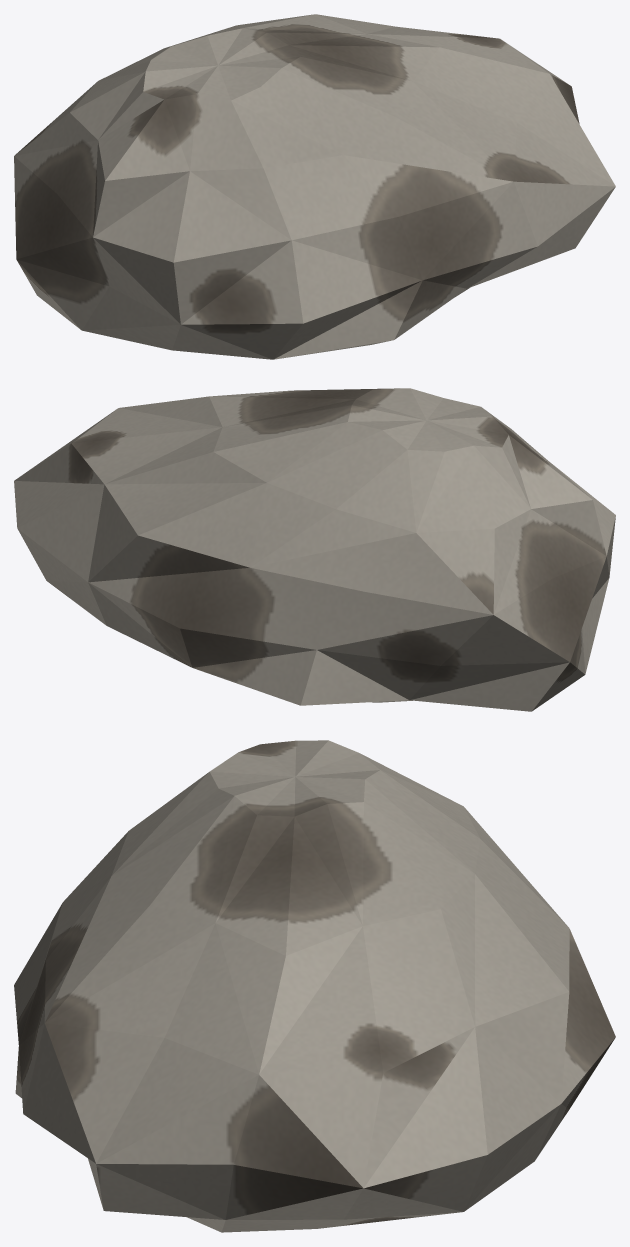
Rendered from CommonStone_Loose_A.glb.
3 views of the same model, one above another, from view 1: azimuth 30°, elevation 25°; view 2: azimuth 150°, elevation 25°; view 3: azimuth 270°, elevation 25° (orthographic). The views are drawn at different scales.
Visible parts, largest first — view 1: CommonStone_Loose_A_LOD0; view 2: CommonStone_Loose_A_LOD0; view 3: CommonStone_Loose_A_LOD0.
Boxes of the visible parts, x1,y1,x2,y2 form: CommonStone_Loose_A_LOD0: [14, 14, 615, 359]; CommonStone_Loose_A_LOD0: [14, 388, 615, 711]; CommonStone_Loose_A_LOD0: [14, 740, 615, 1232].
Size of what is drawn, in the model's own units: 2.53 by 1.09 by 1.85.
Materials: 1 (1 with a texture image).
